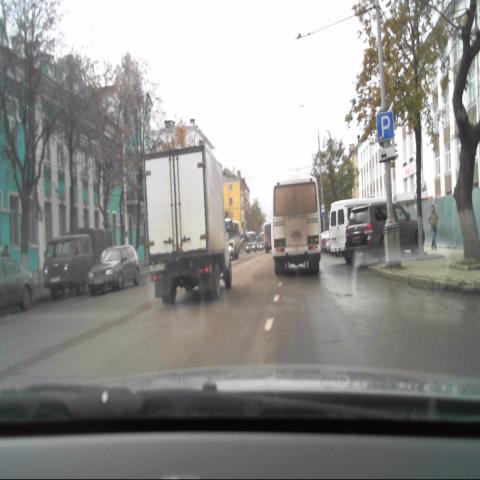8_6_2: (378, 144, 394, 160)
